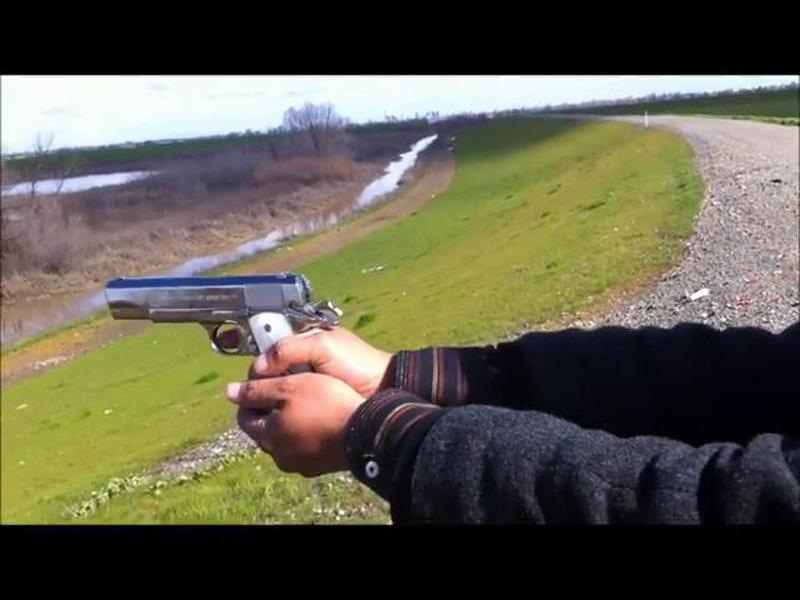Pistola: (93, 249, 355, 431)
